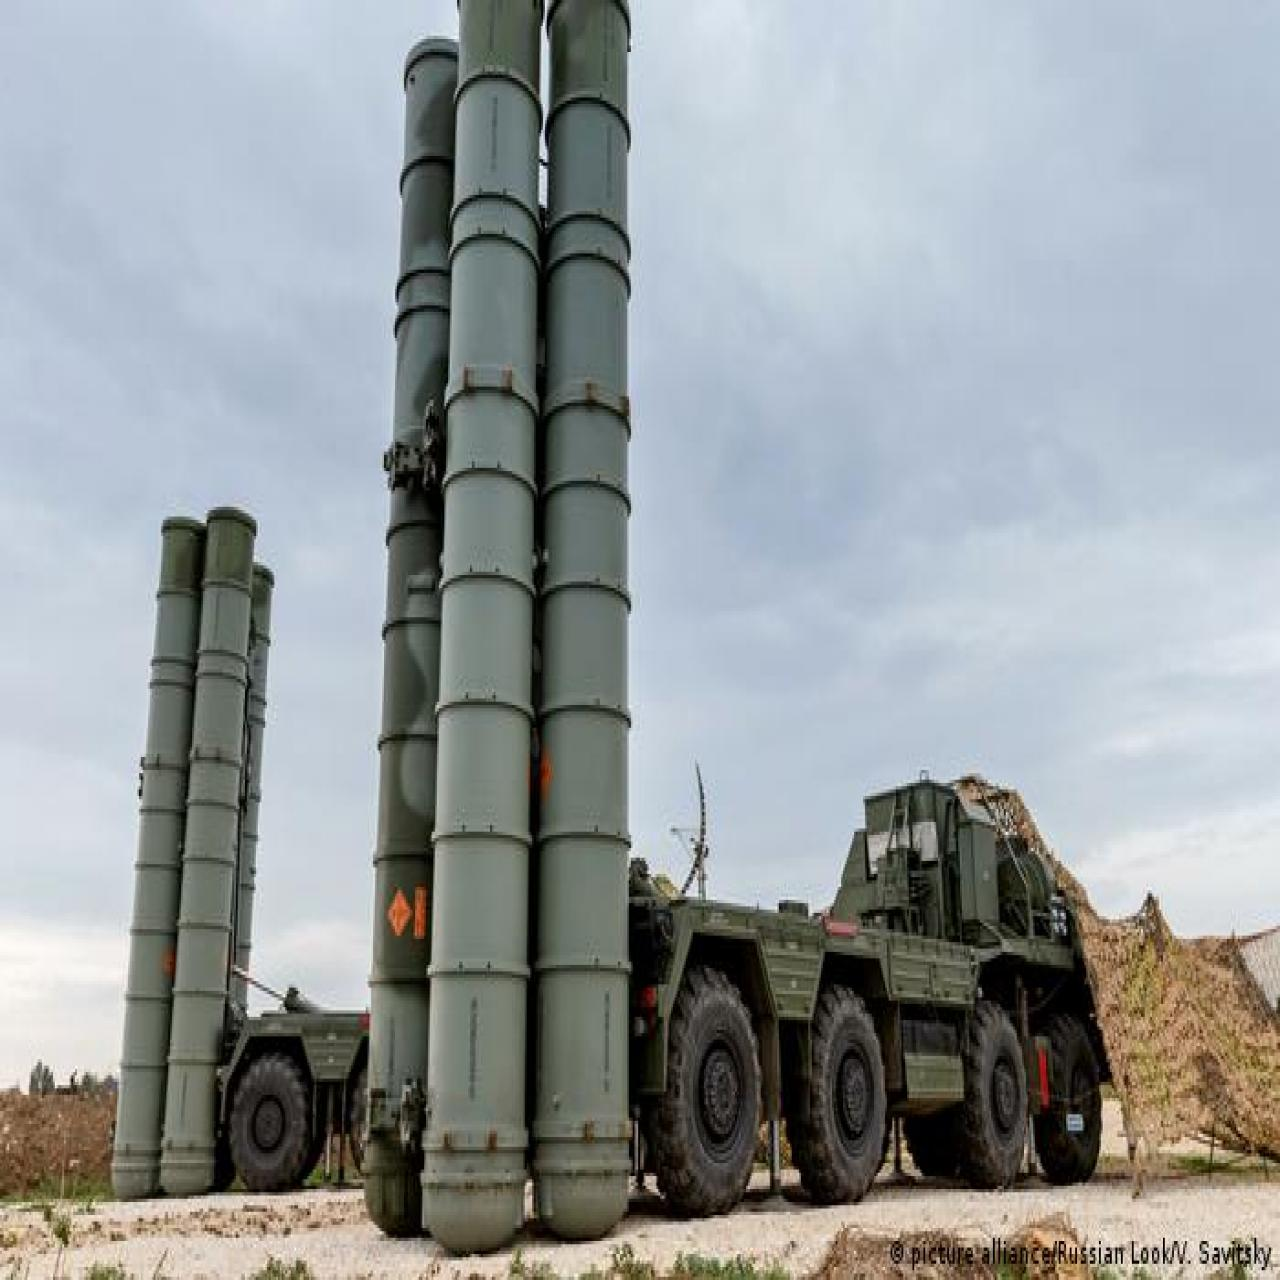MIL_Veh: (374, 0, 1109, 1241), (114, 509, 365, 1186)
